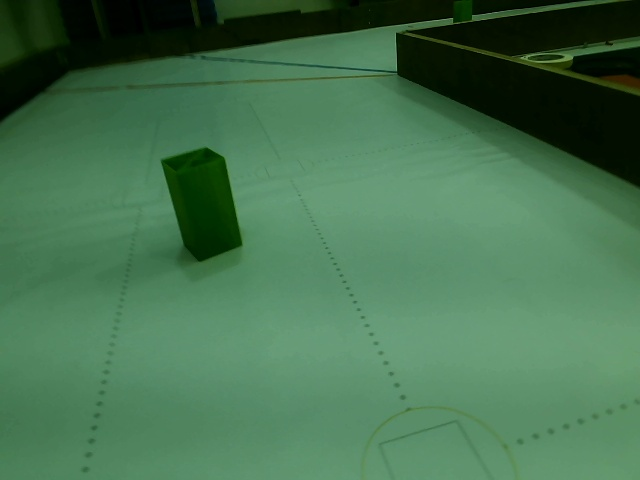green: (165, 155, 242, 249)
